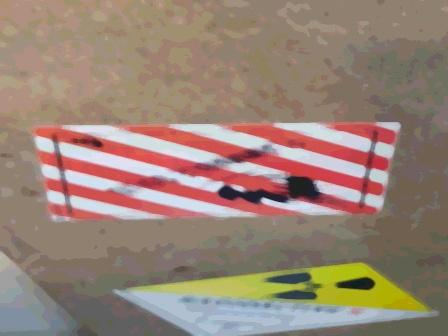flammable-solid: (45, 120, 404, 222)
radioactive: (108, 263, 441, 336)
